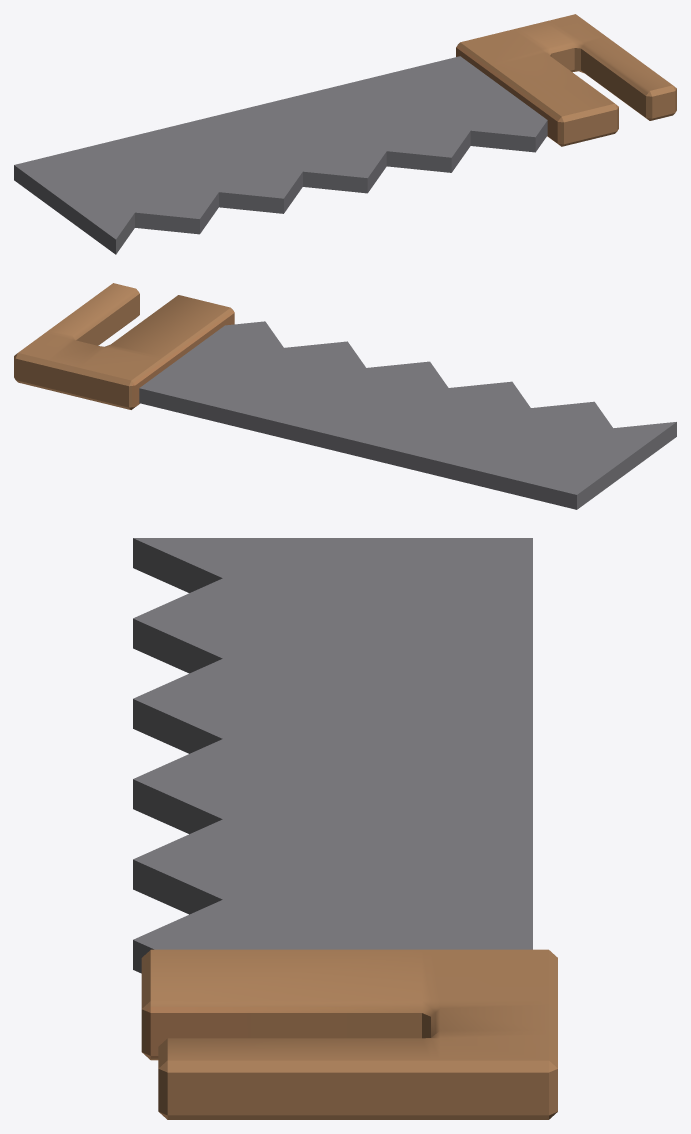
File: Sierra.FBX
3 views of the same model, one above another, from view 1: azimuth 30°, elevation 25°; view 2: azimuth 150°, elevation 25°; view 3: azimuth 270°, elevation 25° (orthographic). The views are drawn at different scales.
Parts seen in each view (by area): view 1: Sierra; view 2: Sierra; view 3: Sierra.
Part boxes in pixels (x1=…): Sierra: x1=14, y1=14, x2=676, y2=254; Sierra: x1=14, y1=283, x2=676, y2=509; Sierra: x1=133, y1=538, x2=557, y2=1119.
Bounding box in the file's own units: 86.58 × 4.39 × 28.52.
